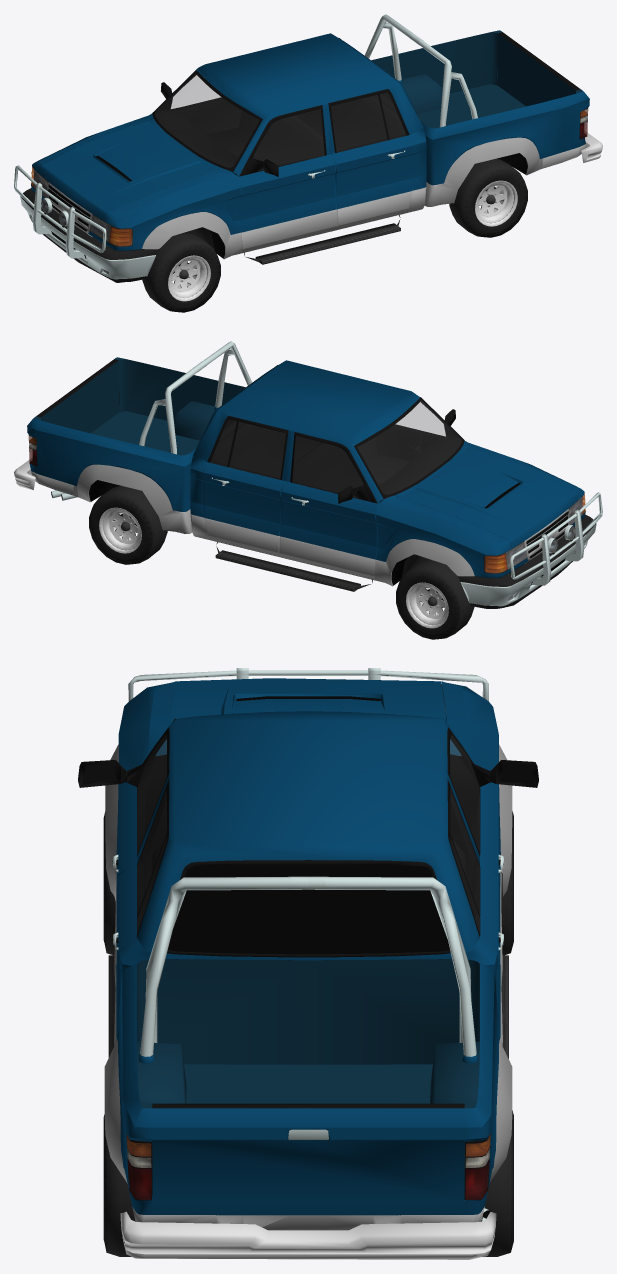
The model's file is v_pick.glb.
3 renders of one model, top to bottom at view 1: azimuth 30°, elevation 25°; view 2: azimuth 150°, elevation 25°; view 3: azimuth 270°, elevation 25°, orthographic. The views are drawn at different scales.
Parts seen in each view (by area): view 1: body_body_0, glass_glass_0, interior_void_0, hood_body_0, trunk_doorshut_0, body_body_secondary_0, fender_left_body_0, wheel_01_tiers_0, wheel_02_tiers_0, trunk_door_doorshut_0, body_plastic_0, BOTTOM_Material #2255_0 (+13 smaller); view 2: body_body_0, glass_glass_0, interior_void_0, hood_body_0, trunk_doorshut_0, body_body_secondary_0, fender_left_body_0, wheel_04_tiers_0, wheel_03_tiers_0, trunk_door_doorshut_0, body_plastic_0, BOTTOM_Material #2255_0 (+13 smaller); view 3: body_body_0, trunk_doorshut_0, trunk_door_body_0, interior_void_0, bumper_rear_02_krm_lgtbdy_chrome_0, hood_body_0, trunk_bars_chrome_0, body_body_secondary_0, fender_left_body_0, body_plastic_0, glass_glass_0, backlights_headlights_0 (+9 smaller).
Boxes of the visible parts, bbox=[...] form: body_body_0: bbox=[149, 33, 589, 232]; glass_glass_0: bbox=[155, 73, 405, 170]; interior_void_0: bbox=[154, 38, 406, 172]; hood_body_0: bbox=[38, 120, 217, 221]; trunk_doorshut_0: bbox=[371, 30, 582, 128]; body_body_secondary_0: bbox=[241, 137, 585, 253]; fender_left_body_0: bbox=[31, 113, 240, 250]; wheel_01_tiers_0: bbox=[142, 233, 220, 312]; wheel_02_tiers_0: bbox=[449, 159, 527, 237]; trunk_door_doorshut_0: bbox=[497, 33, 575, 106]; body_plastic_0: bbox=[152, 70, 409, 176]; BOTTOM_Material #2255_0: bbox=[56, 153, 527, 273]; body_body_0: bbox=[27, 360, 467, 559]; glass_glass_0: bbox=[210, 401, 461, 497]; interior_void_0: bbox=[210, 365, 462, 499]; hood_body_0: bbox=[399, 447, 577, 548]; trunk_doorshut_0: bbox=[34, 357, 245, 455]; body_body_secondary_0: bbox=[31, 464, 375, 580]; fender_left_body_0: bbox=[375, 441, 585, 577]; wheel_04_tiers_0: bbox=[396, 560, 474, 639]; wheel_03_tiers_0: bbox=[89, 485, 167, 564]; trunk_door_doorshut_0: bbox=[41, 361, 118, 433]; body_plastic_0: bbox=[207, 397, 464, 503]; BOTTOM_Material #2255_0: bbox=[36, 480, 528, 607]; body_body_0: bbox=[116, 711, 500, 1214]; trunk_doorshut_0: bbox=[137, 959, 479, 1215]; trunk_door_body_0: bbox=[152, 1108, 464, 1214]; interior_void_0: bbox=[137, 735, 480, 954]; bumper_rear_02_krm_lgtbdy_chrome_0: bbox=[120, 1211, 496, 1259]; hood_body_0: bbox=[171, 678, 446, 723]; trunk_bars_chrome_0: bbox=[140, 876, 476, 1056]; body_body_secondary_0: bbox=[104, 872, 512, 1230]; fender_left_body_0: bbox=[116, 681, 500, 869]; body_plastic_0: bbox=[78, 711, 538, 957]; glass_glass_0: bbox=[137, 735, 479, 932]; backlights_headlights_0: bbox=[126, 1134, 490, 1199].
Size of the model in its own units: 205 by 66.06 by 80.41.
17 materials, 7 textured.
